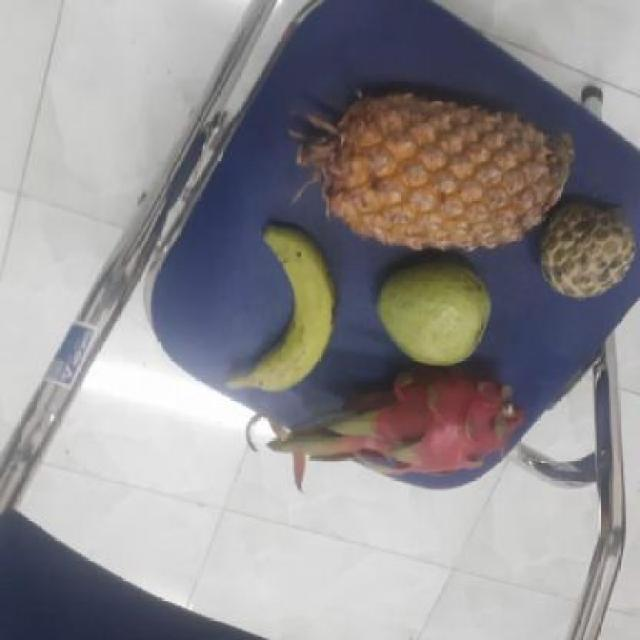banana: (229, 231, 337, 394)
dragon fruit: (307, 359, 524, 483)
guava: (372, 259, 496, 370)
pineapple: (320, 96, 568, 249)
sugar apple: (531, 200, 635, 298)
